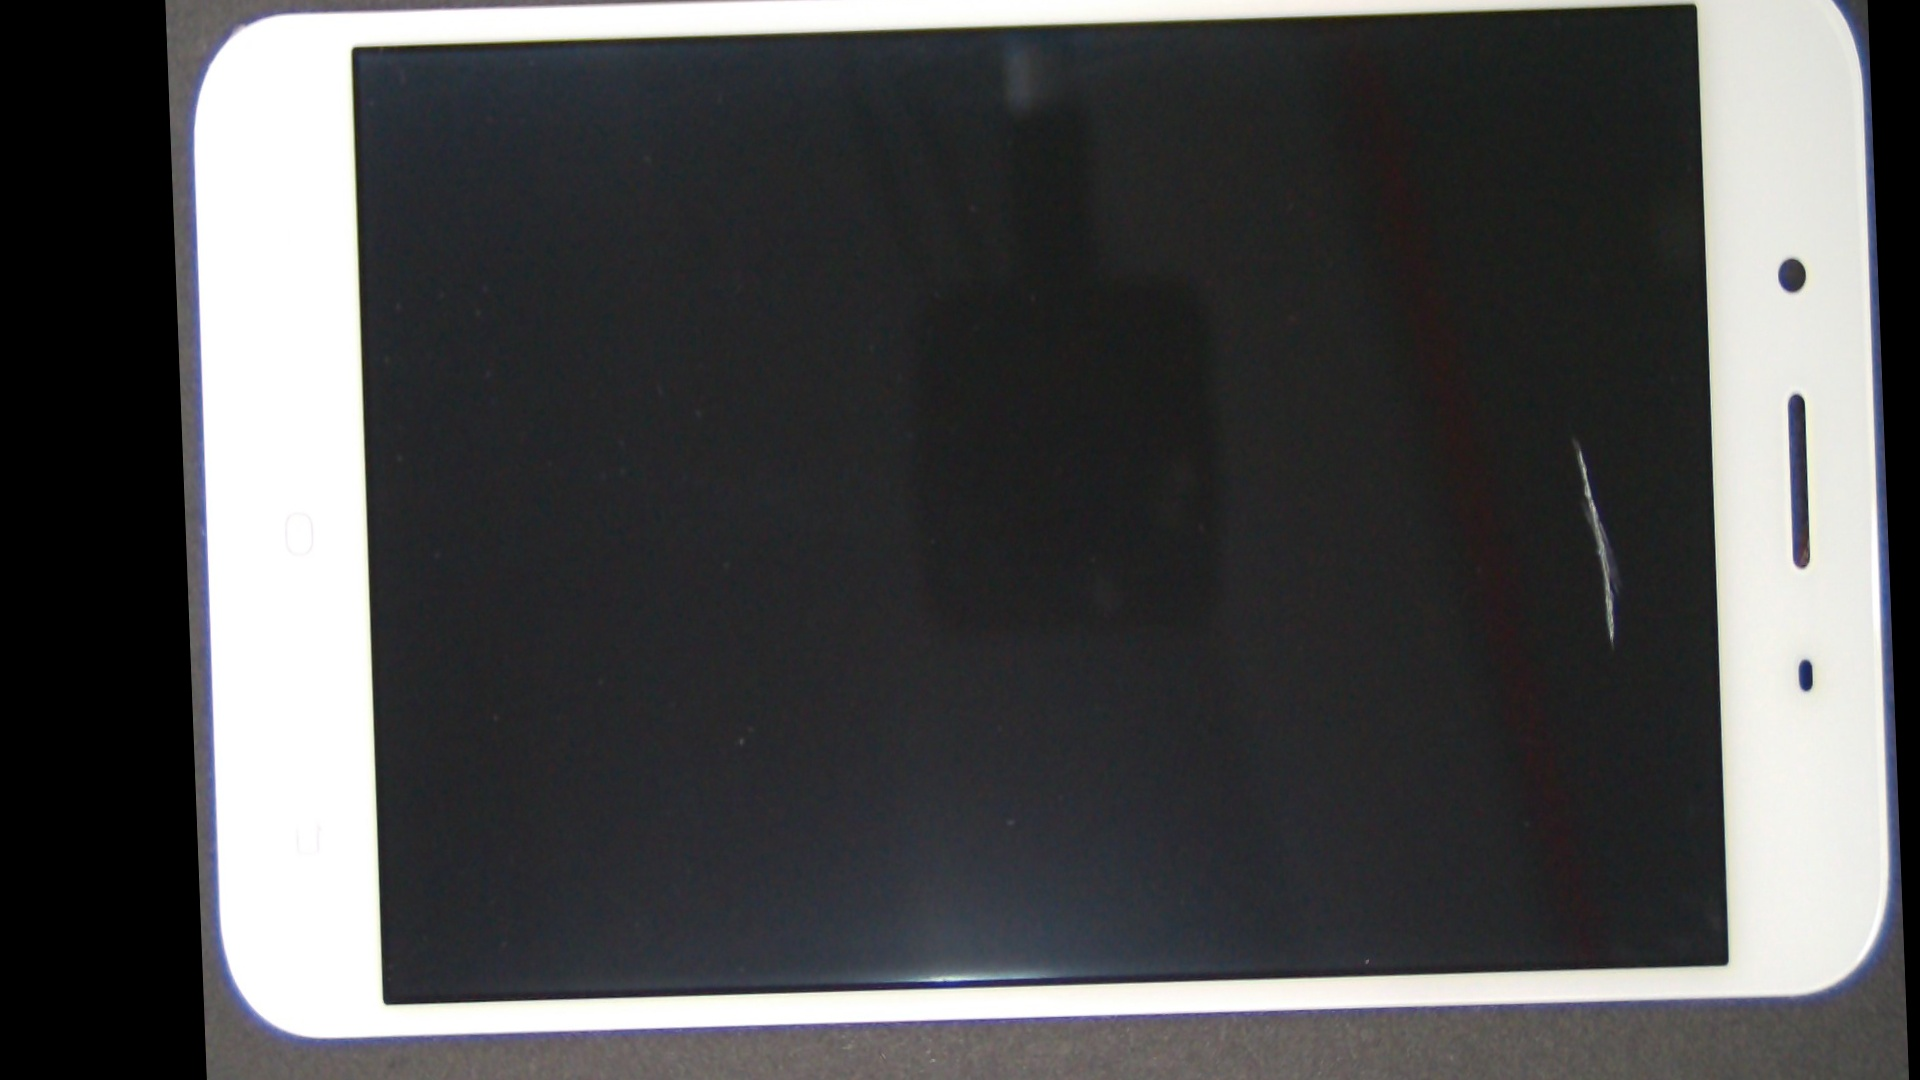oil: (869, 161, 1894, 732)
